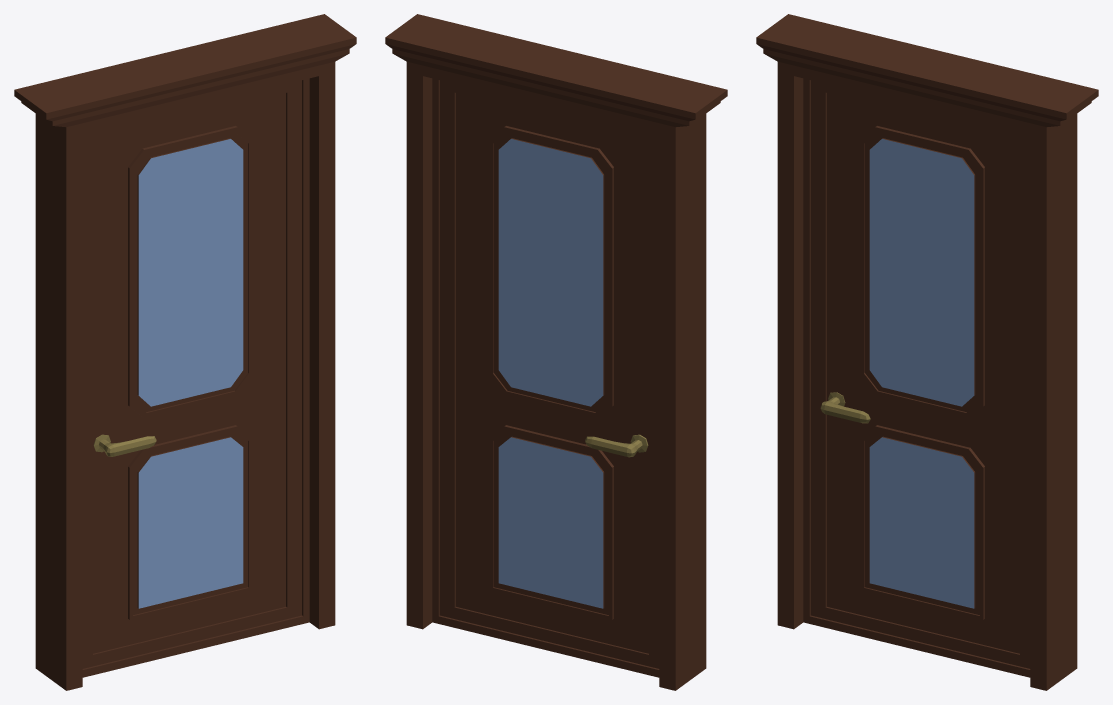
Rendered from Door2.glb.
The picture shows the model from 3 angles, left to right: view 1: azimuth 30°, elevation 25°; view 2: azimuth 150°, elevation 25°; view 3: azimuth 330°, elevation 25°; orthographic projection.
Visible parts, largest first — view 1: Door2; view 2: Door2; view 3: Door2.
Part boxes in pixels (x1,y1,x2,y2): Door2: (14,14,356,690); Door2: (385,14,727,690); Door2: (756,14,1098,690).
Size of the model in its own units: 1.75 by 3.14 by 0.3199.
